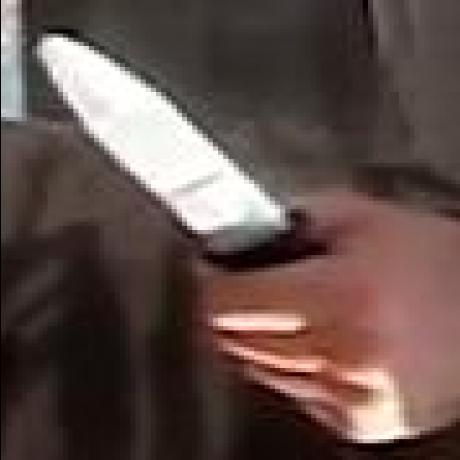1: (192, 190, 460, 444)
weapon: (32, 34, 336, 268)
